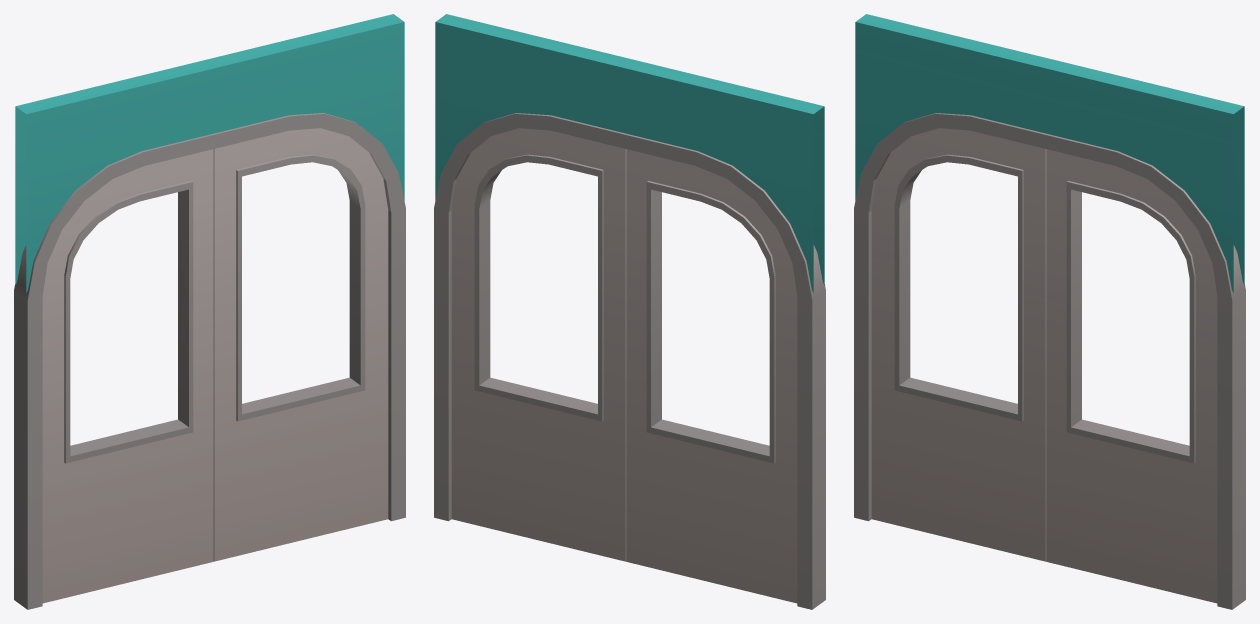
Rendered from Wall_Door.fbx.
3 views of the same model, side by side, from view 1: azimuth 30°, elevation 25°; view 2: azimuth 150°, elevation 25°; view 3: azimuth 330°, elevation 25° (orthographic).
Visible parts, largest first — view 1: Door1, Door2, wall, Frame; view 2: Door1, Door2, wall, Frame; view 3: Door2, Door1, wall, Frame.
Part boxes in pixels (left/top/right/bottom): Door1: left=213, top=128, right=388, bottom=561; Door2: left=42, top=149, right=213, bottom=603; wall: left=15, top=14, right=404, bottom=293; Frame: left=14, top=113, right=405, bottom=609; Door1: left=451, top=128, right=626, bottom=561; Door2: left=626, top=149, right=797, bottom=603; wall: left=435, top=14, right=824, bottom=293; Frame: left=434, top=113, right=825, bottom=609; Door2: left=871, top=128, right=1046, bottom=561; Door1: left=1046, top=149, right=1217, bottom=603; wall: left=855, top=14, right=1244, bottom=292; Frame: left=854, top=113, right=1245, bottom=609.
Size of the model in its own units: 2 by 2.5 by 0.1259.
